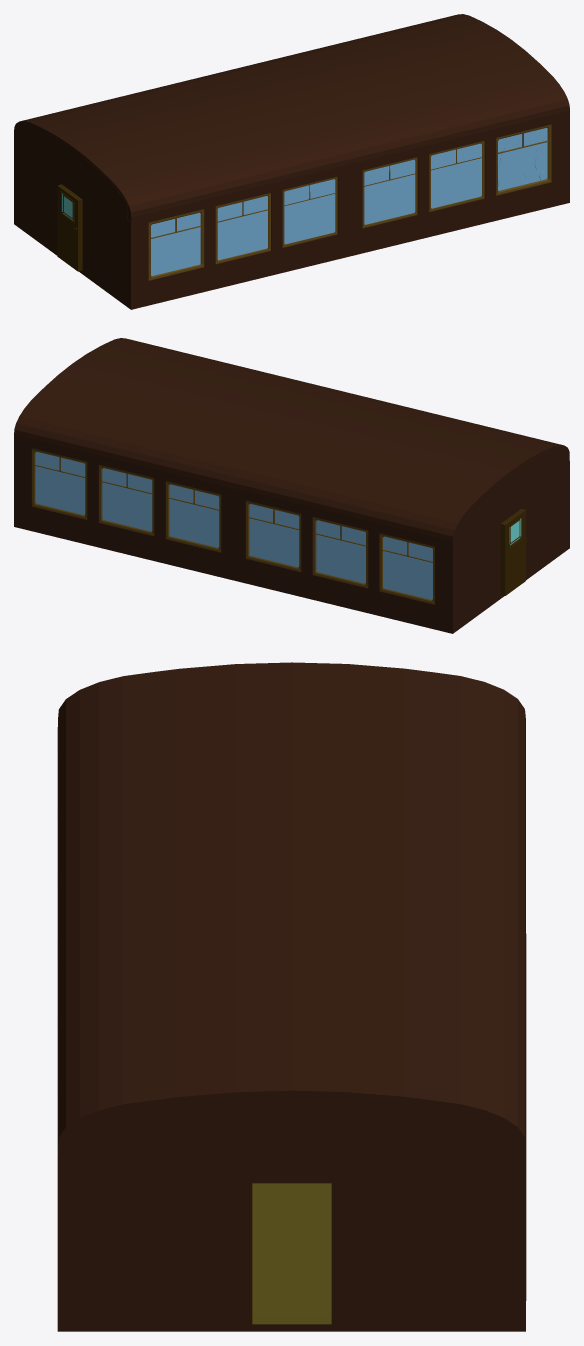
File: SeatWagonBrokenWindow.fbx
3 views of the same model, one above another, from view 1: azimuth 30°, elevation 25°; view 2: azimuth 150°, elevation 25°; view 3: azimuth 270°, elevation 25° (orthographic). The views are drawn at different scales.
Parts seen in each view (by area): view 1: SeatWagon, WindowGlass.008, WindowGlass.009, WindowGlass.010, WindowGlass.007, WindowGlass.006, Door, BrokenGlass_3.011, BrokenGlass_7.011, BrokenGlass_6.011; view 2: SeatWagon, WindowGlass.004, WindowGlass.005, WindowGlass.003, WindowGlass.002, WindowGlass, WindowGlass.001, Door; view 3: SeatWagon.
Boxes of the visible parts, box(x1,y1,x2,y2) form: SeatWagon: box(14, 14, 569, 309); WindowGlass.008: box(284, 179, 335, 244); WindowGlass.009: box(364, 159, 415, 224); WindowGlass.010: box(431, 143, 481, 208); WindowGlass.007: box(217, 196, 267, 260); WindowGlass.006: box(151, 212, 200, 275); Door: box(57, 184, 82, 271); BrokenGlass_3.011: box(498, 127, 547, 190); BrokenGlass_7.011: box(498, 146, 537, 180); BrokenGlass_6.011: box(498, 136, 547, 187); SeatWagon: box(14, 338, 569, 633); WindowGlass.004: box(102, 468, 152, 531); WindowGlass.005: box(35, 451, 85, 515); WindowGlass.003: box(169, 484, 219, 547); WindowGlass.002: box(249, 504, 299, 567); WindowGlass: box(383, 536, 432, 599); WindowGlass.001: box(316, 520, 365, 583); Door: box(500, 509, 526, 595); SeatWagon: box(57, 662, 526, 1331).
Size of the model in its own units: 2804 by 1591 by 6148.
